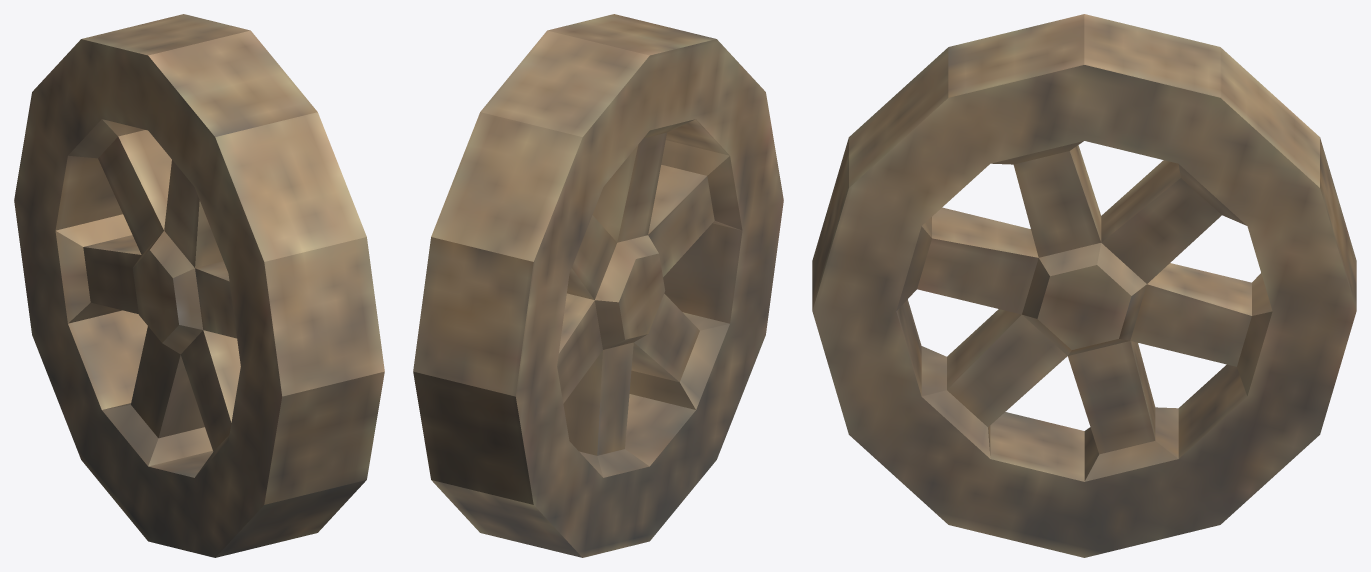
The model's file is Asset_03_tire_v001.obj.
3 views of the same model, side by side, from view 1: azimuth 30°, elevation 25°; view 2: azimuth 150°, elevation 25°; view 3: azimuth 270°, elevation 25° (orthographic).
Parts seen in each view (by area): view 1: Asset_3_tire_low; view 2: Asset_3_tire_low; view 3: Asset_3_tire_low.
Part boxes in pixels (x1=…): Asset_3_tire_low: x1=14, y1=14, x2=384, y2=557; Asset_3_tire_low: x1=413, y1=14, x2=783, y2=557; Asset_3_tire_low: x1=812, y1=14, x2=1356, y2=557.
Bounding box in the file's own units: 0.4421 × 2 × 2.
